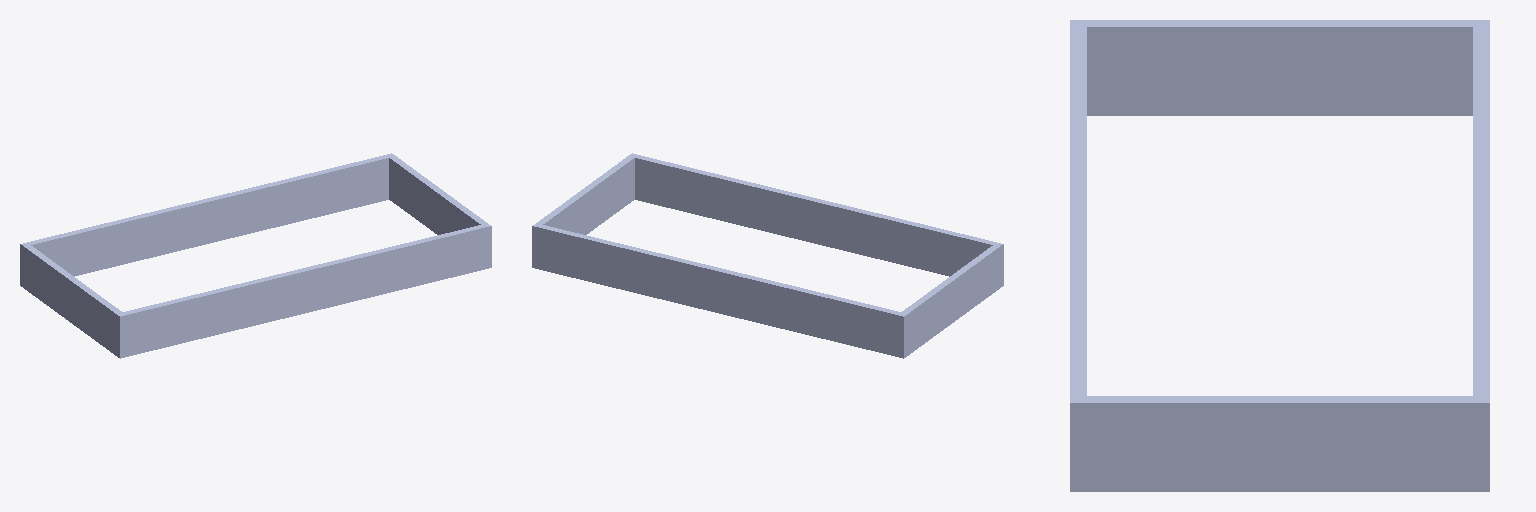
robot.urdf — w311-2:
<?xml version="1.0" encoding="utf-8"?>
<!-- This URDF was automatically created by SolidWorks to URDF Exporter! Originally created by [author] ([email redacted]) 
     Commit Version: 1.6.0-1-g15f4949  Build Version: 1.6.7594.29634
     For more information, please see http://wiki.ros.org/sw_urdf_exporter -->
<robot
  name="w311-2">
  <link
    name="base_link">
    <inertial>
      <origin
        xyz="13.9 6.435 1.5"
        rpy="0 0 0" />
      <mass
        value="119010" />
      <inertia
        ixx="3699508.91575"
        ixy="-4.74627170216814E-09"
        ixz="3.60685331999923E-10"
        iyy="12096181.6"
        iyz="7.10542735760096E-12"
        izz="15617175.51575" />
    </inertial>
    <visual>
      <origin
        xyz="0 0 0"
        rpy="0 0 0" />
      <geometry>
        <mesh
          filename="package://w311-2/meshes/base_link.STL" />
      </geometry>
      <material
        name="">
        <color
          rgba="0.792156862745098 0.819607843137255 0.933333333333333 1" />
      </material>
    </visual>
    <collision>
      <origin
        xyz="0 0 0"
        rpy="0 0 0" />
      <geometry>
        <mesh
          filename="package://w311-2/meshes/base_link.STL" />
      </geometry>
    </collision>
  </link>
</robot>

--- Render facts (derived) ---
Views: 3 orthographic renders of the robot side by side, from view 1: azimuth 30°, elevation 25°; view 2: azimuth 150°, elevation 25°; view 3: azimuth 270°, elevation 25°.
Model w311-2 with 1 links and 0 joints (none), rooted at base_link, posed all joints at 0.
Links seen in each view (by area): view 1: base_link; view 2: base_link; view 3: base_link.
Link boxes in pixels (left/top/right/bottom): base_link: left=20, top=153, right=491, bottom=358; base_link: left=532, top=153, right=1003, bottom=358; base_link: left=1070, top=20, right=1489, bottom=491.
Size in the robot's own frame: 27.8 by 12.87 by 3 metres.
Meshes: 1 distinct files referenced, 1 mesh visuals loaded (1 binary STL).